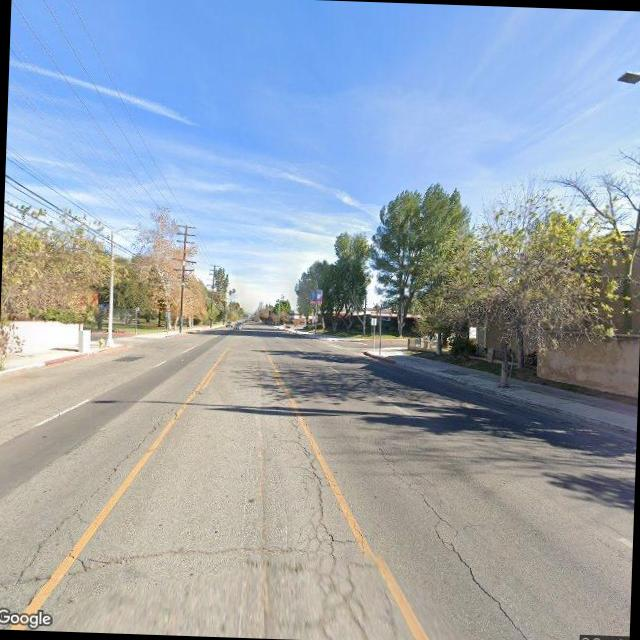crack: (364, 434, 563, 640), (6, 408, 162, 592), (276, 412, 356, 558), (278, 414, 354, 558), (69, 532, 308, 576)
